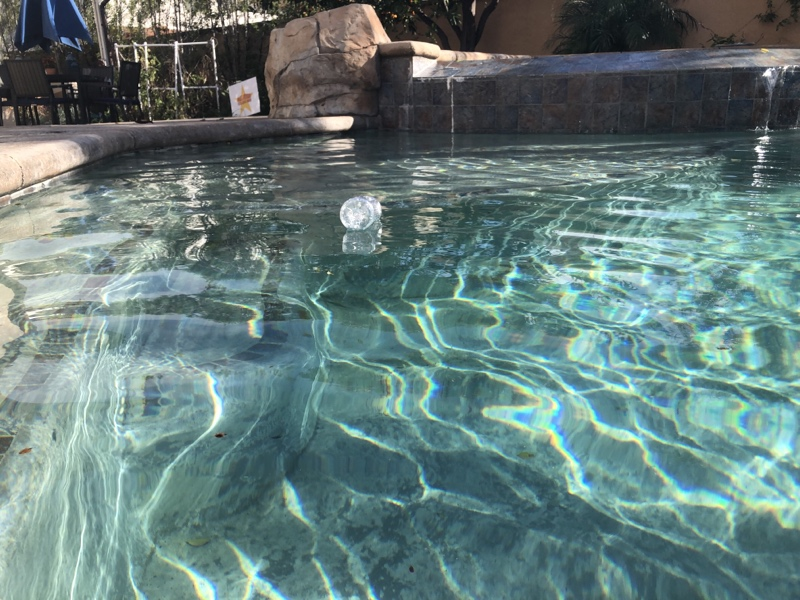Plastic Bottle: (339, 193, 382, 234)
